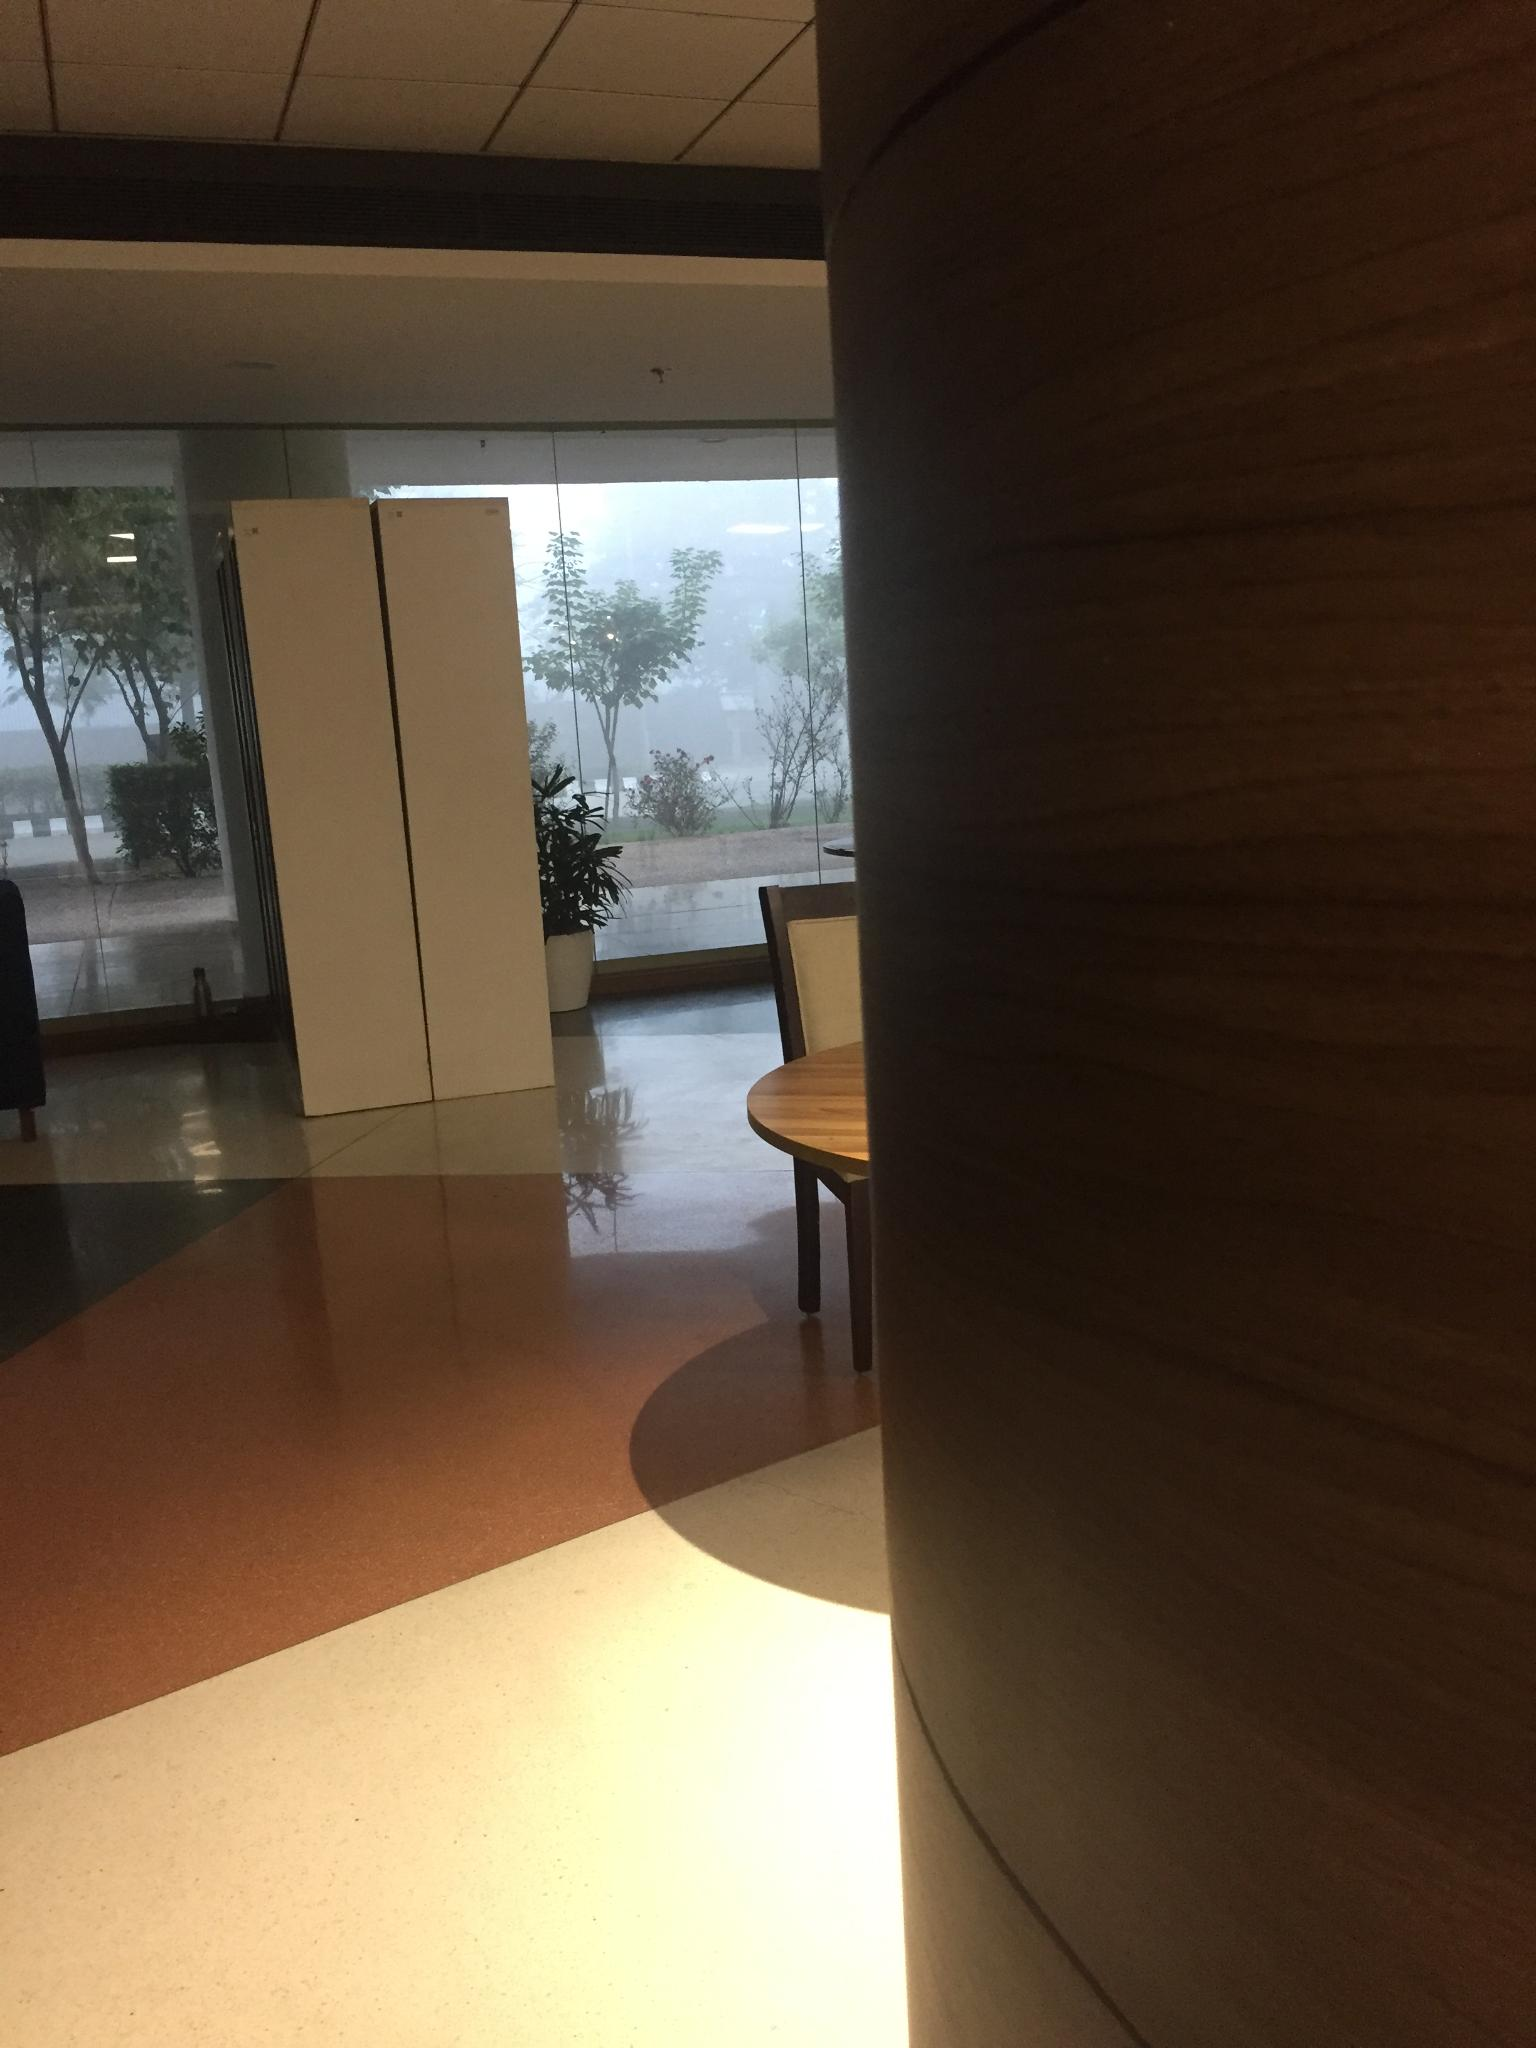chair: (760, 889, 954, 1341)
